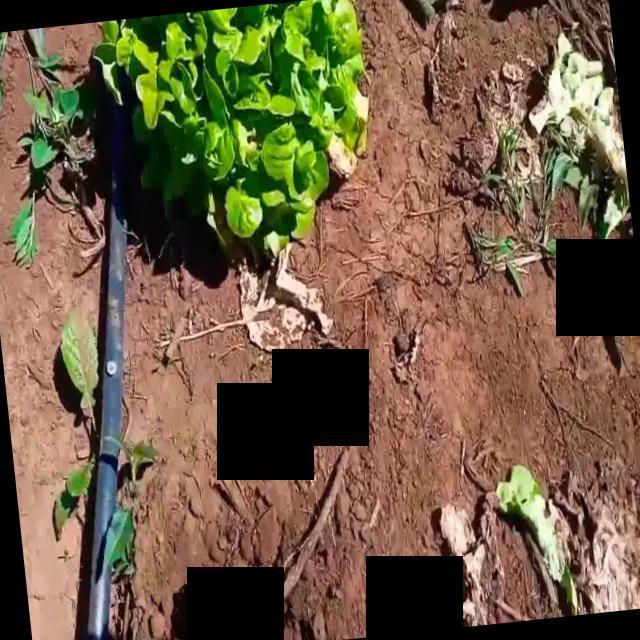Lettuce: (84, 0, 371, 251)
